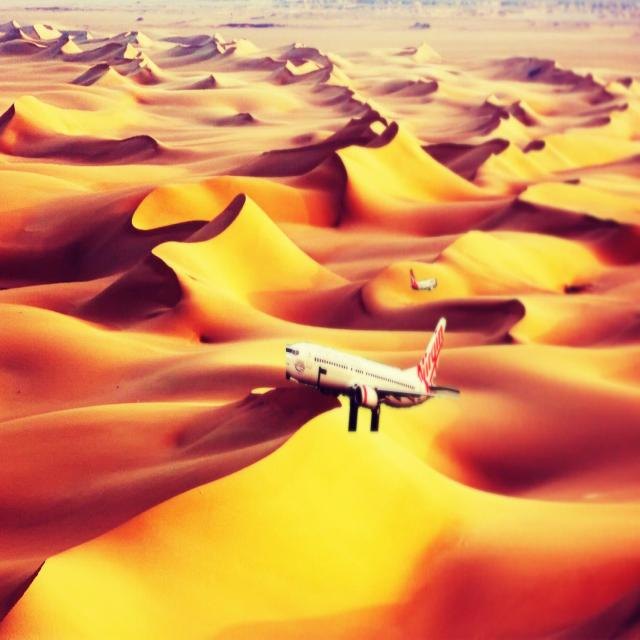airplane: (285, 315, 460, 432), (409, 268, 437, 290)
